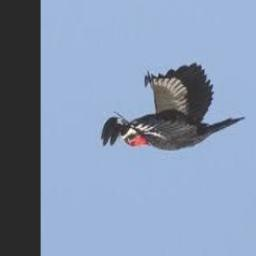Woodpecker: (102, 62, 246, 152)
